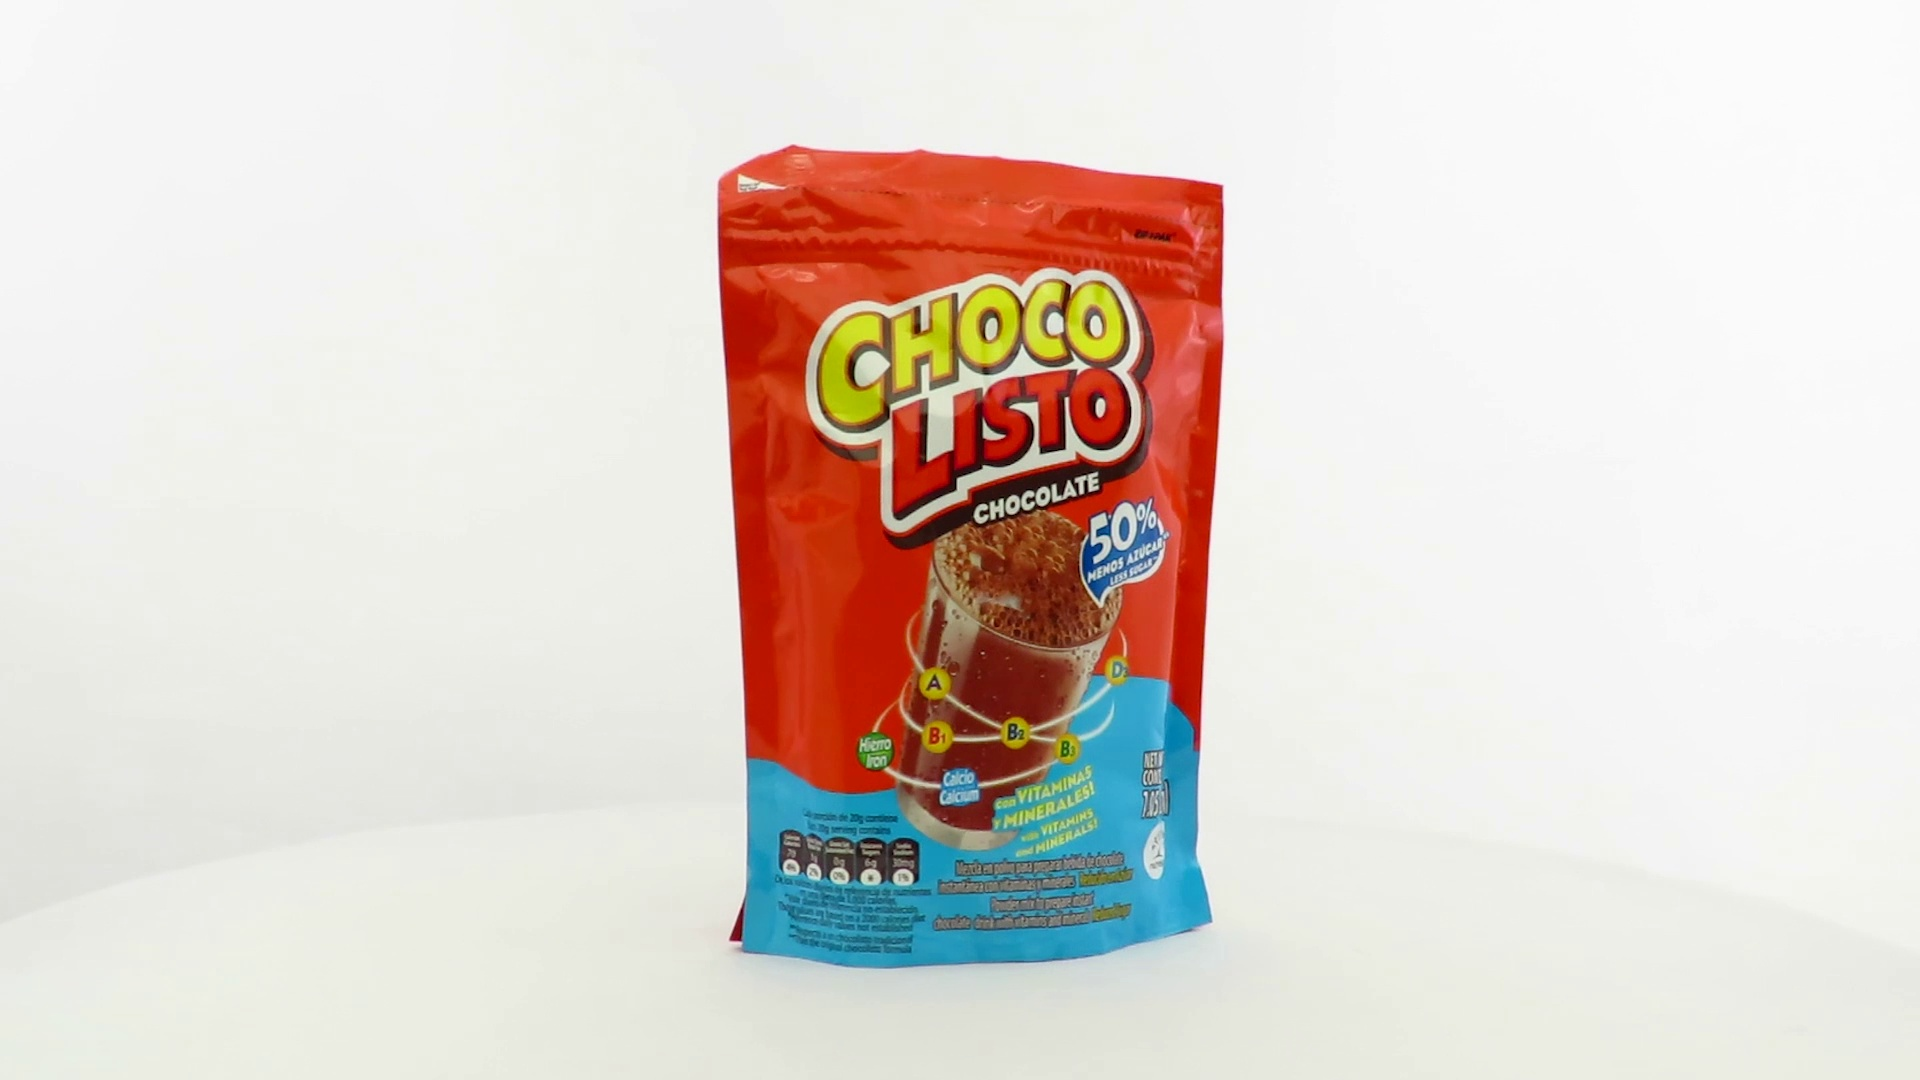COL0170104DYP20000: (712, 138, 1230, 975)
